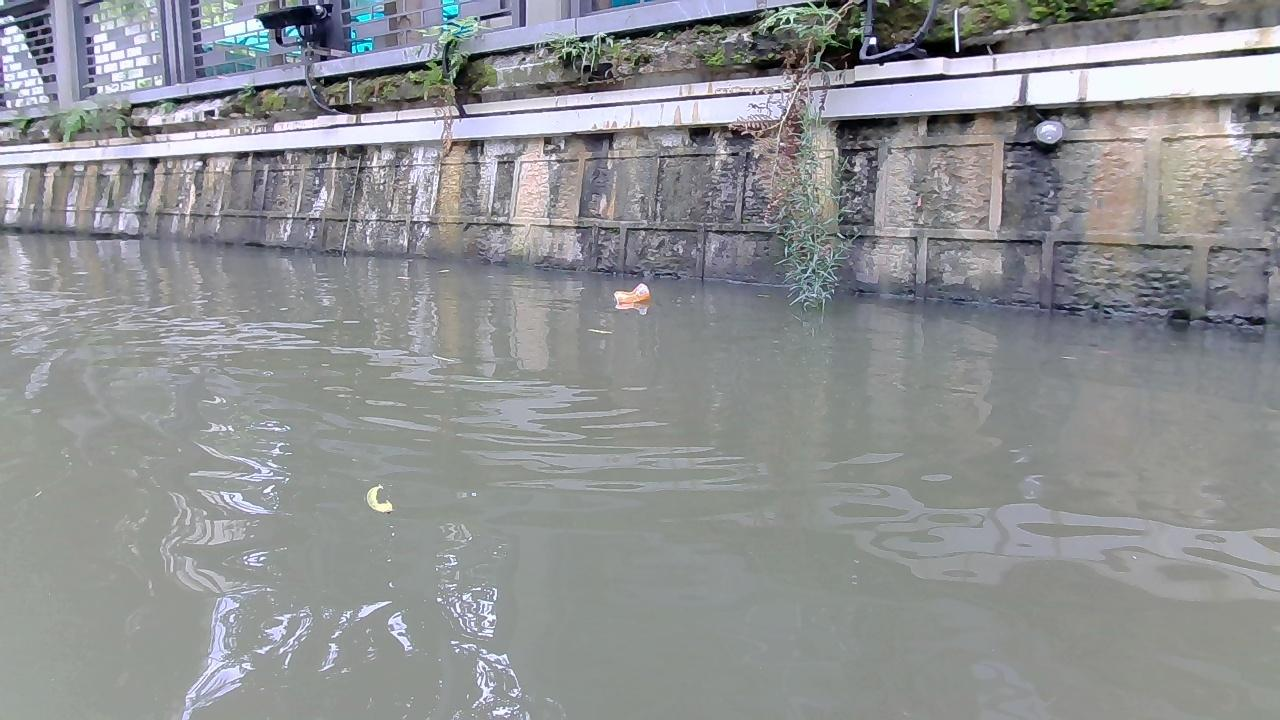bottle: (612, 282, 651, 304)
